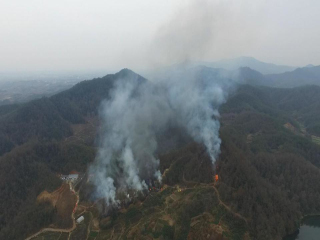smoke: (80, 4, 232, 209)
